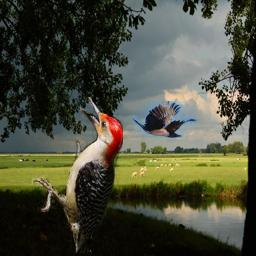Crow: (132, 101, 197, 138)
Woodpecker: (31, 97, 123, 253)
